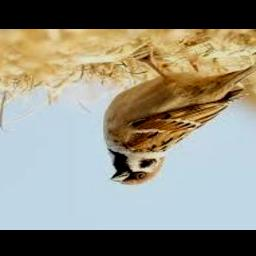Sparrow: (105, 55, 256, 185)
